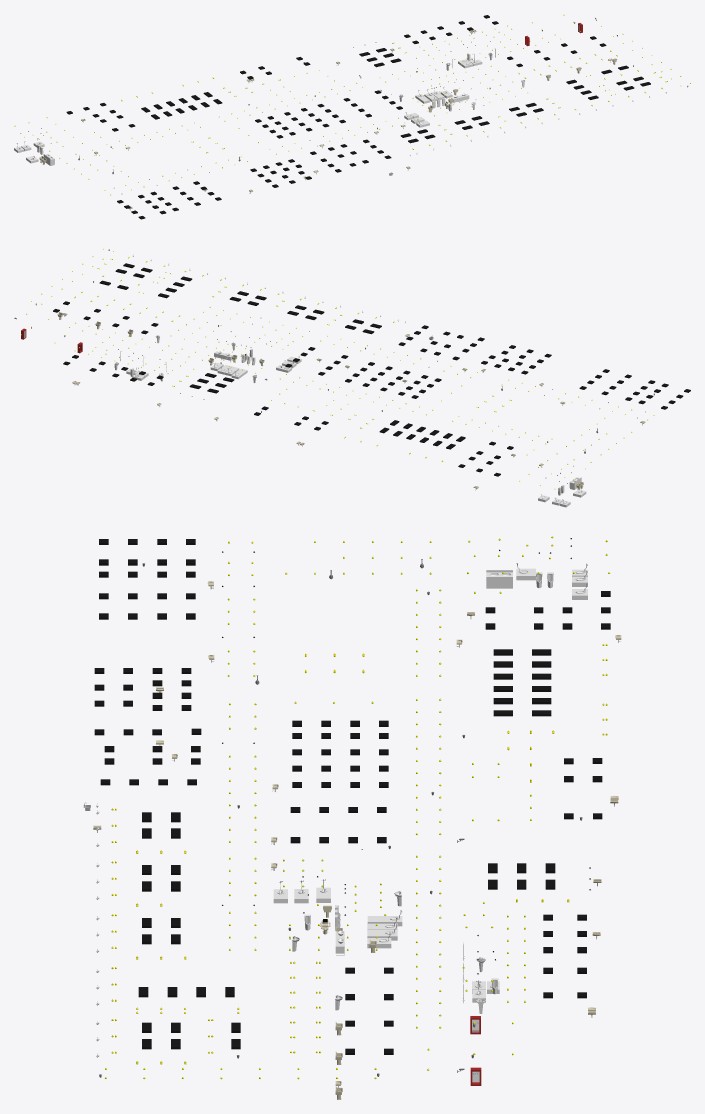
File: F4_shebei.glb
3 views of the same model, one above another, from view 1: azimuth 30°, elevation 25°; view 2: azimuth 150°, elevation 25°; view 3: azimuth 270°, elevation 25° (orthographic). The views are drawn at different scales.
Bounding box in the file's own units: 80.21 × 2.87 × 33.5.
Materials: 14 (1 with a texture image).
